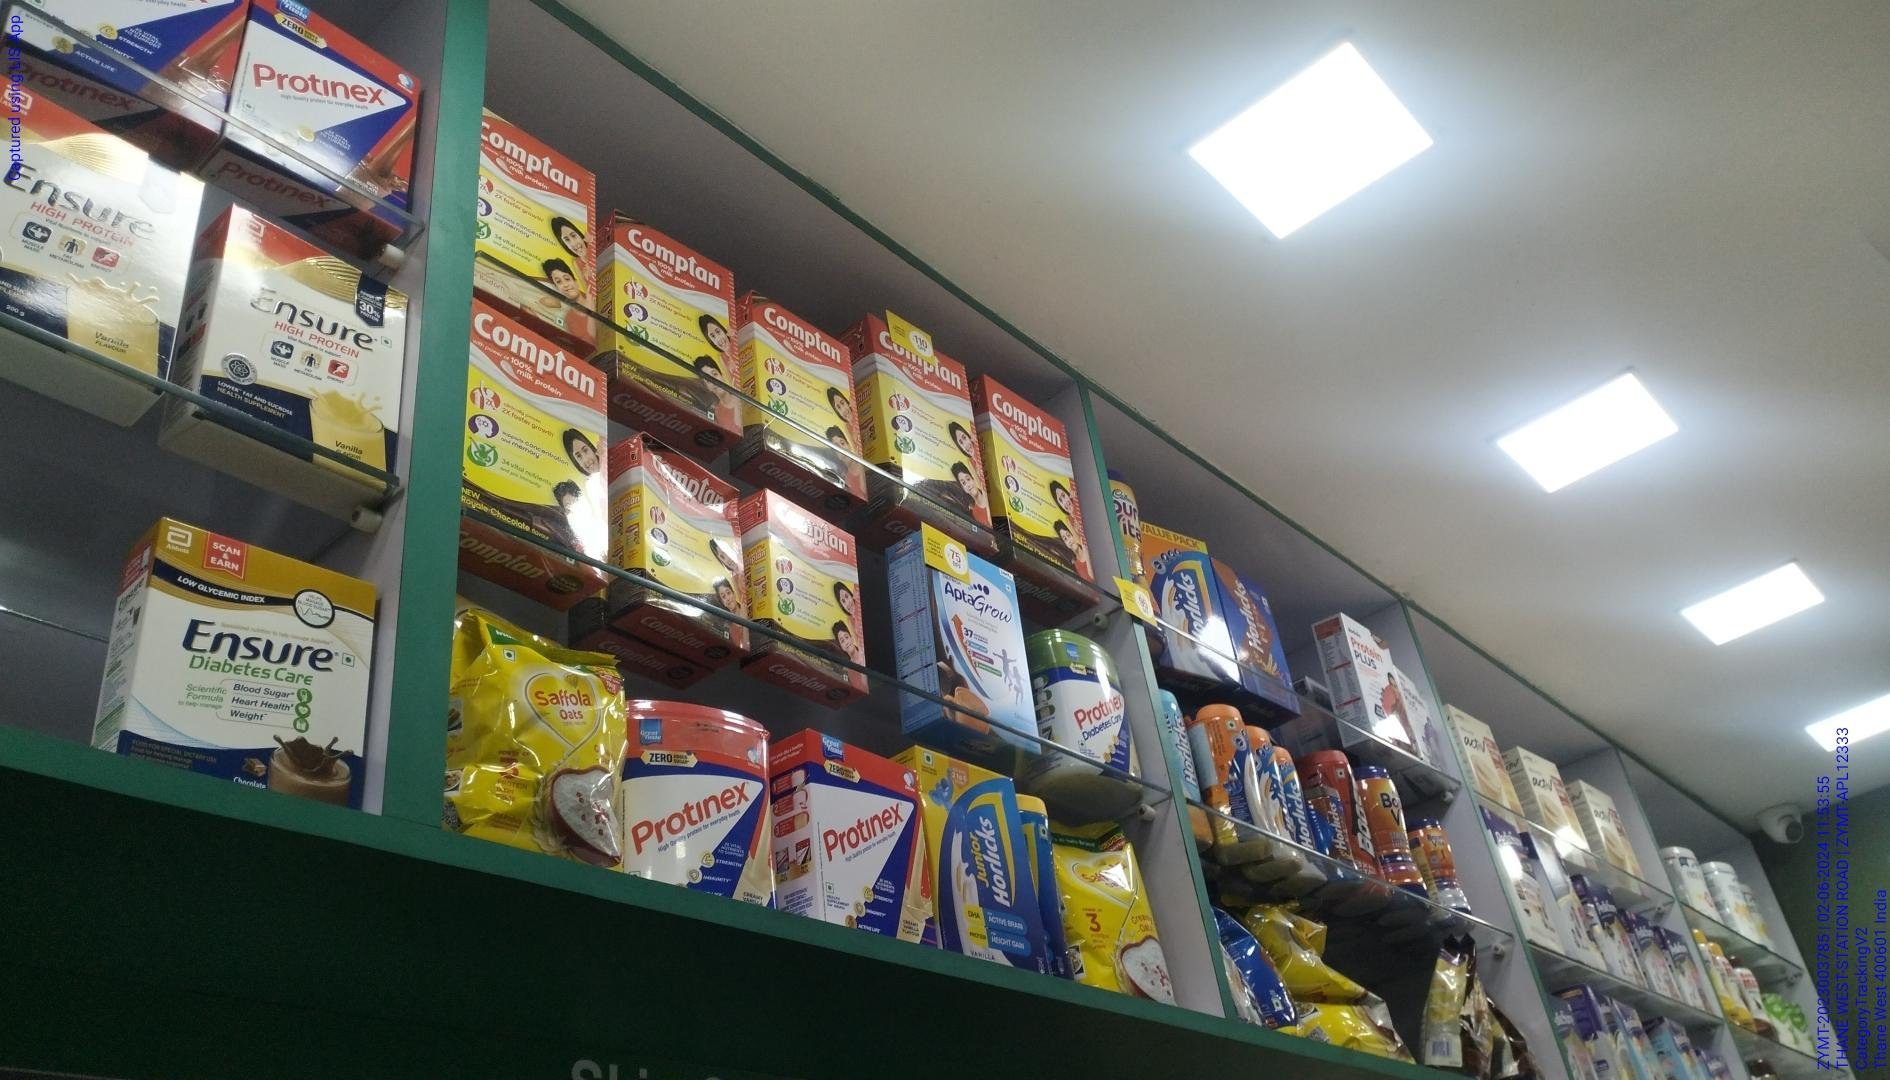PROTINEX_VANILLA_400_G_JAR: (630, 698, 775, 903)
